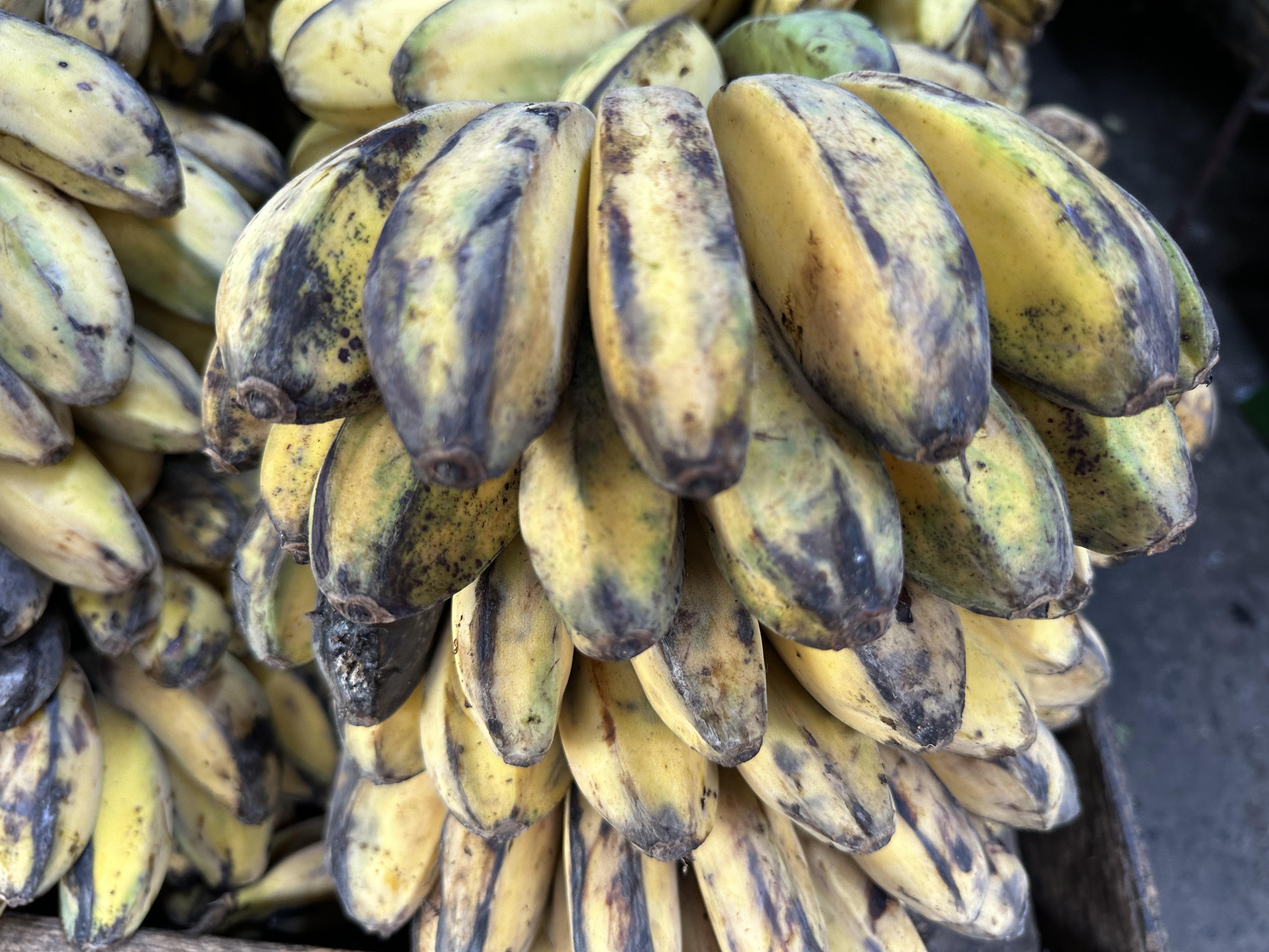overripe: (0, 544, 68, 730)
ripe: (235, 496, 1110, 859), (326, 744, 1029, 952), (0, 647, 336, 947), (70, 454, 259, 687), (0, 0, 278, 103)
underripe: (203, 68, 1220, 656), (0, 13, 283, 594), (270, 0, 899, 176)
